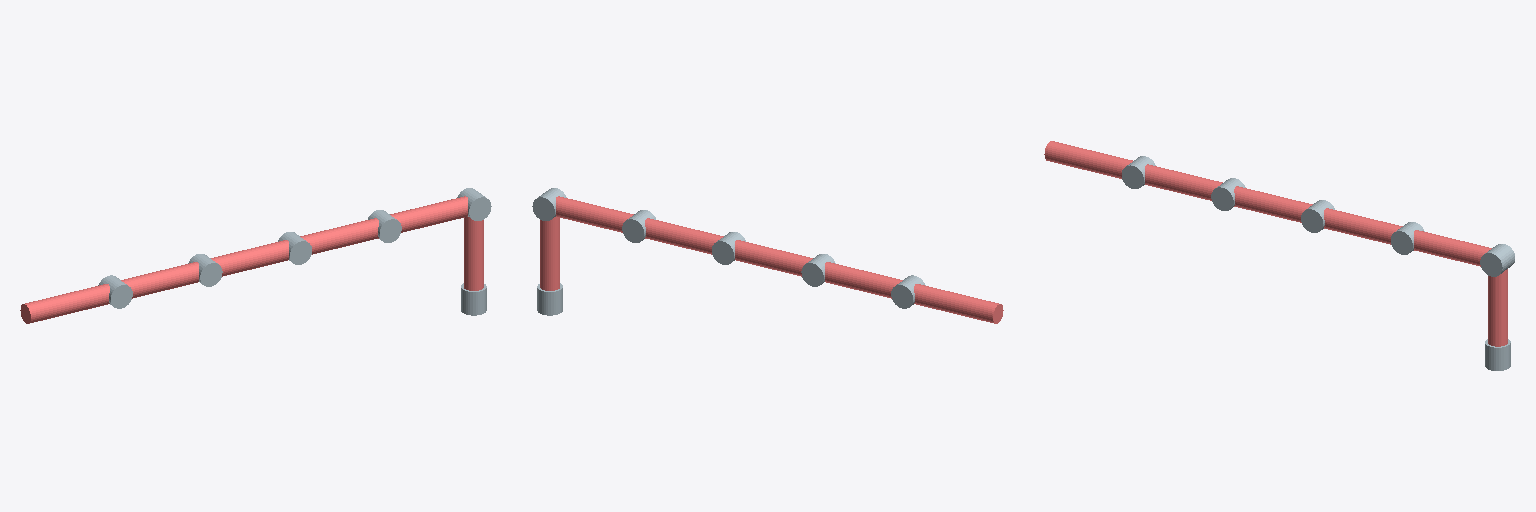
URDF robot description (robot):
<robot name='robot'>
	<material name='blue'>
		<color rgba='0 0 0.8 1'/>
	</material>
	<material name='red'>
		<color rgba='0.8 0 0 1'/>
	</material>
	<link name='a0'>
		<visual>
			<origin rpy='-0.0 0.0 0.0' xyz='0.0 0.0 0.0'/>
			<geometry>
				<cylinder length='0.1' radius='0.05'/>
			</geometry>
			<material name='blue'><color rgba='0.73 0.79 0.82 1'/></material>
		</visual>
	</link>
	<link name='l0'>
		<visual>
			<origin rpy='-0.0 0.0 0.0' xyz='0.0 0.0 0.2'/>
			<geometry>
				<cylinder length='0.4' radius='0.04'/>
			</geometry>
			<material name='grey'><color rgba='0.99 0.54 0.54 1'/></material>
		</visual>
	</link>
	<joint name='move_l0_from_a0' type='continuous'>
		<parent link='a0'/>
		<child link='l0'/>
		<axis xyz='0.0 0.0 1.0'/>
		<origin rpy='0 0 0' xyz='0.0 0.0 0.0'/>
	</joint>
	<link name='a1'>
		<visual>
			<origin rpy='1.5707963267948966 0.0 0.0' xyz='0.0 0.0 0.4'/>
			<geometry>
				<cylinder length='0.1' radius='0.05'/>
			</geometry>
			<material name='blue'><color rgba='0.73 0.79 0.82 1'/></material>
		</visual>
	</link>
	<joint name='fix_a1_to_l0' type='fixed'>
		<parent link='l0'/>
		<child link='a1'/>
		<origin rpy='0 0 0' xyz='0 0 0'/>
	</joint>
	<link name='l1'>
		<visual>
			<origin rpy='-0.0 -1.5707963267948963 0.0' xyz='-0.2 -0.0 0.0'/>
			<geometry>
				<cylinder length='0.4' radius='0.04'/>
			</geometry>
			<material name='grey'><color rgba='0.99 0.54 0.54 1'/></material>
		</visual>
	</link>
	<joint name='move_l1_from_a1' type='continuous'>
		<parent link='a1'/>
		<child link='l1'/>
		<axis xyz='0.0 -1.0 0.0'/>
		<origin rpy='0 0 0' xyz='0.0 0.0 0.4'/>
	</joint>
	<link name='a2'>
		<visual>
			<origin rpy='1.5707963267948966 0.0 0.0' xyz='-0.4 -0.0 0.0'/>
			<geometry>
				<cylinder length='0.1' radius='0.05'/>
			</geometry>
			<material name='blue'><color rgba='0.73 0.79 0.82 1'/></material>
		</visual>
	</link>
	<joint name='fix_a2_to_l1' type='fixed'>
		<parent link='l1'/>
		<child link='a2'/>
		<origin rpy='0 0 0' xyz='0 0 0'/>
	</joint>
	<link name='l2'>
		<visual>
			<origin rpy='-0.0 -1.5707963267948963 0.0' xyz='-0.2 -0.0 0.0'/>
			<geometry>
				<cylinder length='0.4' radius='0.04'/>
			</geometry>
			<material name='grey'><color rgba='0.99 0.54 0.54 1'/></material>
		</visual>
	</link>
	<joint name='move_l2_from_a2' type='continuous'>
		<parent link='a2'/>
		<child link='l2'/>
		<axis xyz='0.0 -1.0 0.0'/>
		<origin rpy='0 0 0' xyz='-0.4 -0.0 0.0'/>
	</joint>
	<link name='a3'>
		<visual>
			<origin rpy='1.5707963267948966 0.0 0.0' xyz='-0.4 -0.0 0.0'/>
			<geometry>
				<cylinder length='0.1' radius='0.05'/>
			</geometry>
			<material name='blue'><color rgba='0.73 0.79 0.82 1'/></material>
		</visual>
	</link>
	<joint name='fix_a3_to_l2' type='fixed'>
		<parent link='l2'/>
		<child link='a3'/>
		<origin rpy='0 0 0' xyz='0 0 0'/>
	</joint>
	<link name='l3'>
		<visual>
			<origin rpy='-0.0 -1.5707963267948963 0.0' xyz='-0.2 -0.0 0.0'/>
			<geometry>
				<cylinder length='0.4' radius='0.04'/>
			</geometry>
			<material name='grey'><color rgba='0.99 0.54 0.54 1'/></material>
		</visual>
	</link>
	<joint name='move_l3_from_a3' type='continuous'>
		<parent link='a3'/>
		<child link='l3'/>
		<axis xyz='0.0 -1.0 0.0'/>
		<origin rpy='0 0 0' xyz='-0.4 -0.0 0.0'/>
	</joint>
	<link name='a4'>
		<visual>
			<origin rpy='1.5707963267948966 0.0 0.0' xyz='-0.4 -0.0 0.0'/>
			<geometry>
				<cylinder length='0.1' radius='0.05'/>
			</geometry>
			<material name='blue'><color rgba='0.73 0.79 0.82 1'/></material>
		</visual>
	</link>
	<joint name='fix_a4_to_l3' type='fixed'>
		<parent link='l3'/>
		<child link='a4'/>
		<origin rpy='0 0 0' xyz='0 0 0'/>
	</joint>
	<link name='l4'>
		<visual>
			<origin rpy='-0.0 -1.5707963267948963 0.0' xyz='-0.2 -0.0 0.0'/>
			<geometry>
				<cylinder length='0.4' radius='0.04'/>
			</geometry>
			<material name='grey'><color rgba='0.99 0.54 0.54 1'/></material>
		</visual>
	</link>
	<joint name='move_l4_from_a4' type='continuous'>
		<parent link='a4'/>
		<child link='l4'/>
		<axis xyz='0.0 -1.0 0.0'/>
		<origin rpy='0 0 0' xyz='-0.4 -0.0 0.0'/>
	</joint>
	<link name='a5'>
		<visual>
			<origin rpy='1.5707963267948966 0.0 0.0' xyz='-0.4 -0.0 0.0'/>
			<geometry>
				<cylinder length='0.1' radius='0.05'/>
			</geometry>
			<material name='blue'><color rgba='0.73 0.79 0.82 1'/></material>
		</visual>
	</link>
	<joint name='fix_a5_to_l4' type='fixed'>
		<parent link='l4'/>
		<child link='a5'/>
		<origin rpy='0 0 0' xyz='0 0 0'/>
	</joint>
	<link name='l5'>
		<visual>
			<origin rpy='-0.0 -1.5707963267948963 0.0' xyz='-0.2 -0.0 0.0'/>
			<geometry>
				<cylinder length='0.4' radius='0.04'/>
			</geometry>
			<material name='grey'><color rgba='0.99 0.54 0.54 1'/></material>
		</visual>
	</link>
	<joint name='move_l5_from_a5' type='continuous'>
		<parent link='a5'/>
		<child link='l5'/>
		<axis xyz='0.0 -1.0 0.0'/>
		<origin rpy='0 0 0' xyz='-0.4 -0.0 0.0'/>
	</joint>
</robot>

--- Render facts (derived) ---
Views: 3 orthographic renders of the robot side by side, from view 1: azimuth 30°, elevation 25°; view 2: azimuth 150°, elevation 25°; view 3: azimuth 330°, elevation 25°.
Model robot with 12 links and 11 joints (6 continuous, 5 fixed), rooted at a0, posed every joint at zero.
Visible links, largest first — view 1: l5, l3, l2, l1, l4, l0, a0, a5, a1, a2, a4, a3; view 2: l5, l3, l2, l1, l4, l0, a0, a5, a1, a2, a4, a3; view 3: l5, l2, l1, l3, l4, l0, a1, a0, a4, a3, a5, a2.
Link boxes in pixels (x1,y1,x2,y2): l5: [20, 284, 109, 323]; l3: [211, 240, 288, 276]; l2: [300, 218, 378, 254]; l1: [390, 196, 467, 232]; l4: [121, 262, 198, 298]; l0: [464, 217, 483, 290]; a0: [461, 283, 486, 315]; a5: [98, 275, 132, 308]; a1: [457, 188, 491, 220]; a2: [368, 210, 401, 242]; a4: [188, 254, 222, 286]; a3: [278, 232, 311, 264]; l5: [914, 284, 1003, 323]; l3: [735, 240, 812, 276]; l2: [645, 218, 723, 254]; l1: [556, 196, 633, 232]; l4: [825, 262, 902, 298]; l0: [540, 217, 559, 290]; a0: [537, 283, 562, 315]; a5: [891, 275, 925, 308]; a1: [532, 188, 566, 220]; a2: [622, 210, 655, 242]; a4: [801, 254, 835, 286]; a3: [712, 232, 745, 264]; l5: [1044, 141, 1132, 178]; l2: [1324, 208, 1402, 244]; l1: [1414, 230, 1491, 266]; l3: [1234, 186, 1312, 222]; l4: [1145, 164, 1222, 200]; l0: [1488, 269, 1507, 346]; a1: [1480, 244, 1514, 276]; a0: [1485, 339, 1510, 370]; a4: [1211, 178, 1245, 210]; a3: [1301, 200, 1334, 232]; a5: [1122, 156, 1155, 188]; a2: [1391, 222, 1424, 254].
Size in the robot's own frame: 2.05 by 0.1 by 0.5 metres.
Geometry: primitives only (box / cylinder / sphere), no mesh files.